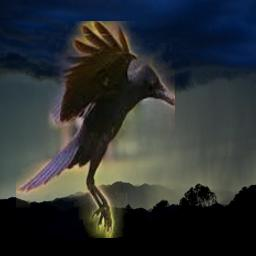Crow: (16, 21, 175, 238)
